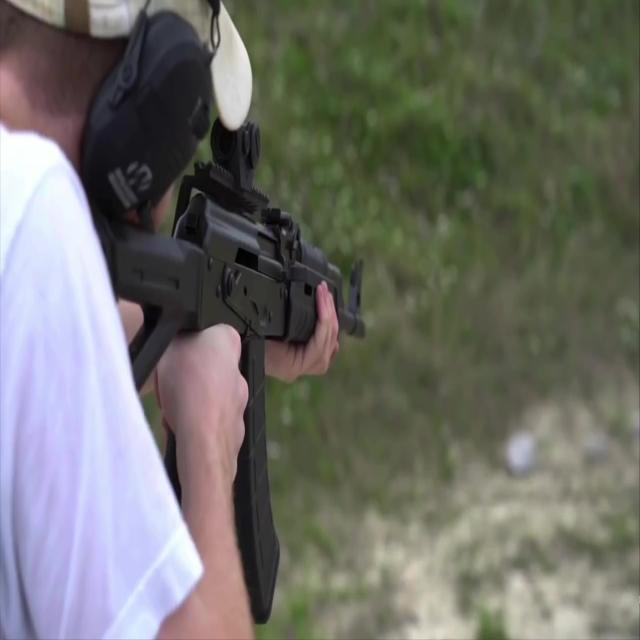Weapon: (78, 98, 374, 633)
